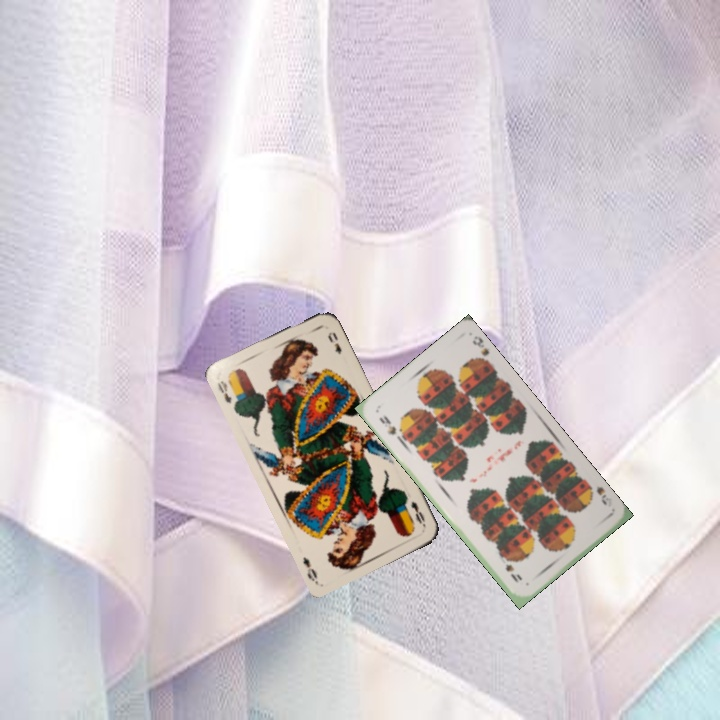EO: (407, 497, 428, 530), (213, 376, 234, 406)
S9: (375, 412, 405, 442), (582, 479, 610, 508)
